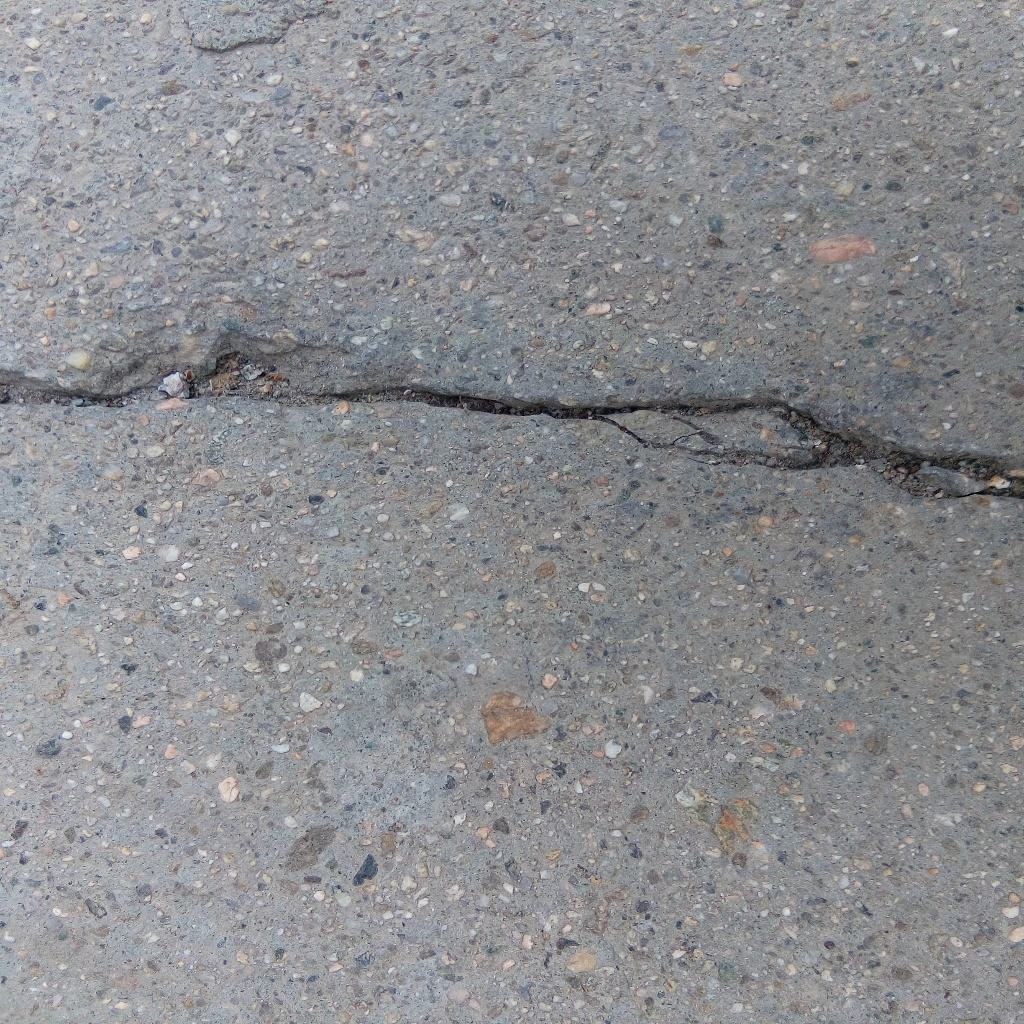Crack: (1, 351, 1024, 503)
